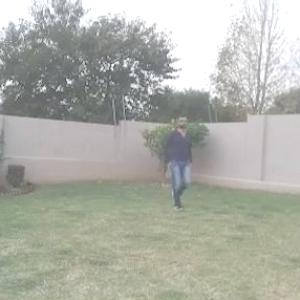follow: (164, 115, 195, 213)
